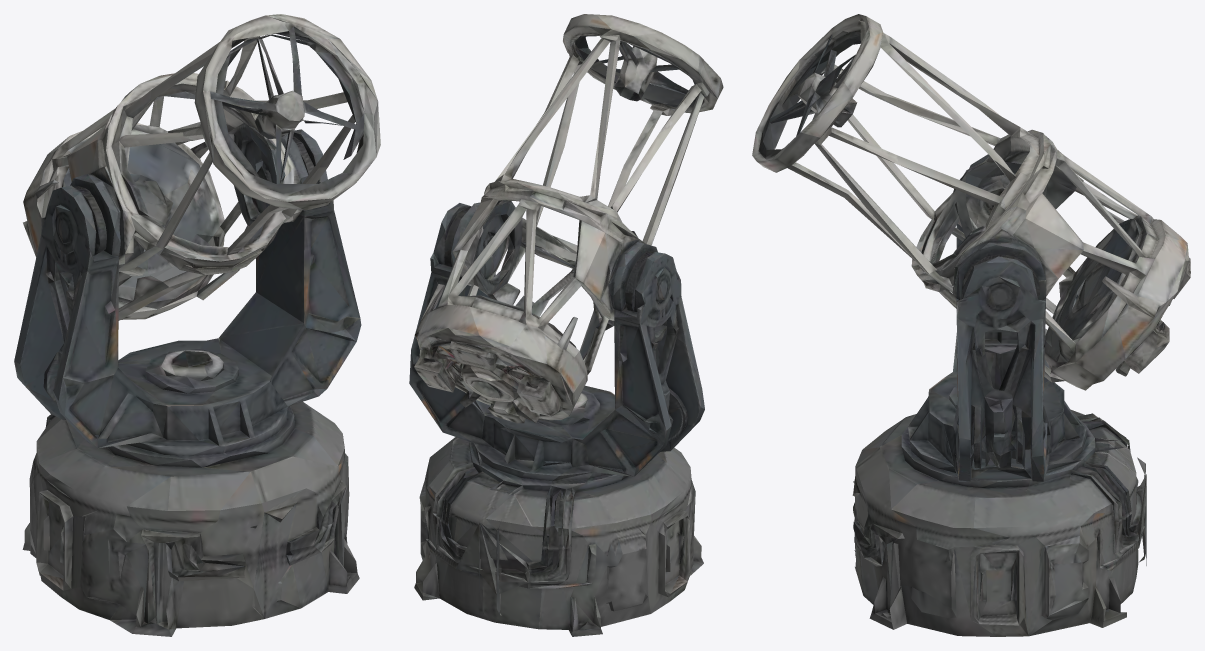
The model's file is mirror.glb.
3 renders of one model, left to right at view 1: azimuth 30°, elevation 25°; view 2: azimuth 150°, elevation 25°; view 3: azimuth 270°, elevation 25°, orthographic. The views are drawn at different scales.
Parts seen in each view (by area): view 1: Mesh_0; view 2: Mesh_0; view 3: Mesh_0.
Boxes of the visible parts, <box> form: Mesh_0: <box>14,14,380,636</box>; Mesh_0: <box>409,14,723,636</box>; Mesh_0: <box>752,14,1190,636</box>.
Size of the model in its own units: 4.76 by 9 by 6.46.
1 material, 1 textured.
